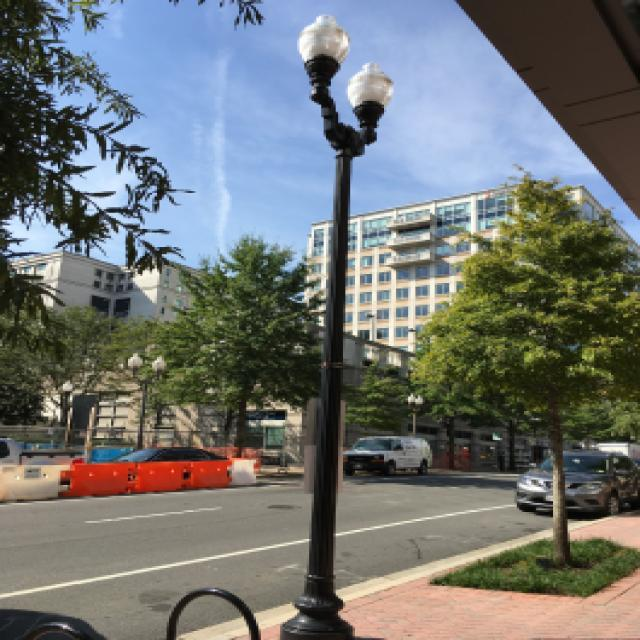Electric pole: (280, 14, 394, 639)
